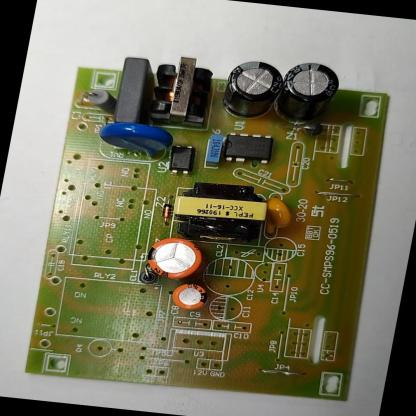Cap1: (142, 232, 206, 283)
Cap2: (168, 281, 212, 312)
Cap3: (218, 58, 288, 124)
Cap4: (276, 59, 344, 127)
MOSFET: (220, 130, 276, 166)
Mov: (94, 120, 178, 162)
Resistor: (84, 85, 120, 117)
Transformer: (168, 176, 274, 240), (147, 52, 216, 125)
